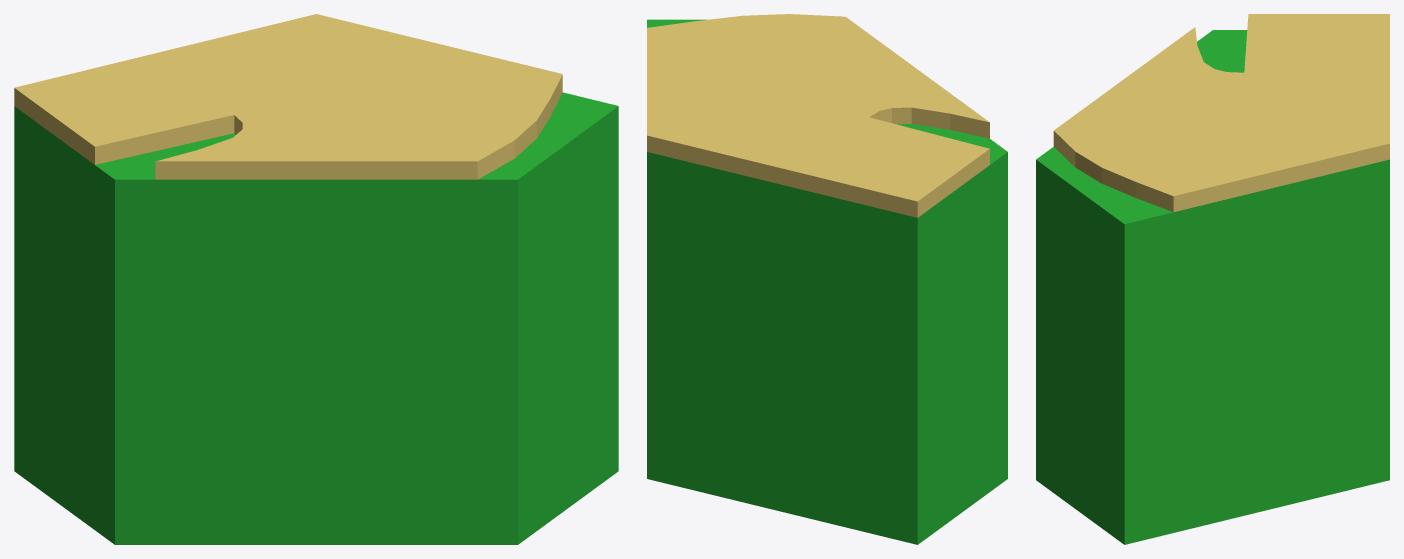
Rendered from module-corner_land_path_fork_003.glb.
3 renders of one model, left to right at view 1: azimuth 30°, elevation 25°; view 2: azimuth 150°, elevation 25°; view 3: azimuth 270°, elevation 25°, orthographic. The views are drawn at different scales.
Visible parts, largest first — view 1: module-corner_land_path_fork_003; view 2: module-corner_land_path_fork_003; view 3: module-corner_land_path_fork_003.
Part boxes in pixels (x1=…): module-corner_land_path_fork_003: x1=14, y1=14, x2=618, y2=544; module-corner_land_path_fork_003: x1=647, y1=14, x2=1007, y2=544; module-corner_land_path_fork_003: x1=1036, y1=14, x2=1389, y2=544.
Size of the model in its own units: 0.6495 by 0.525 by 0.5.
